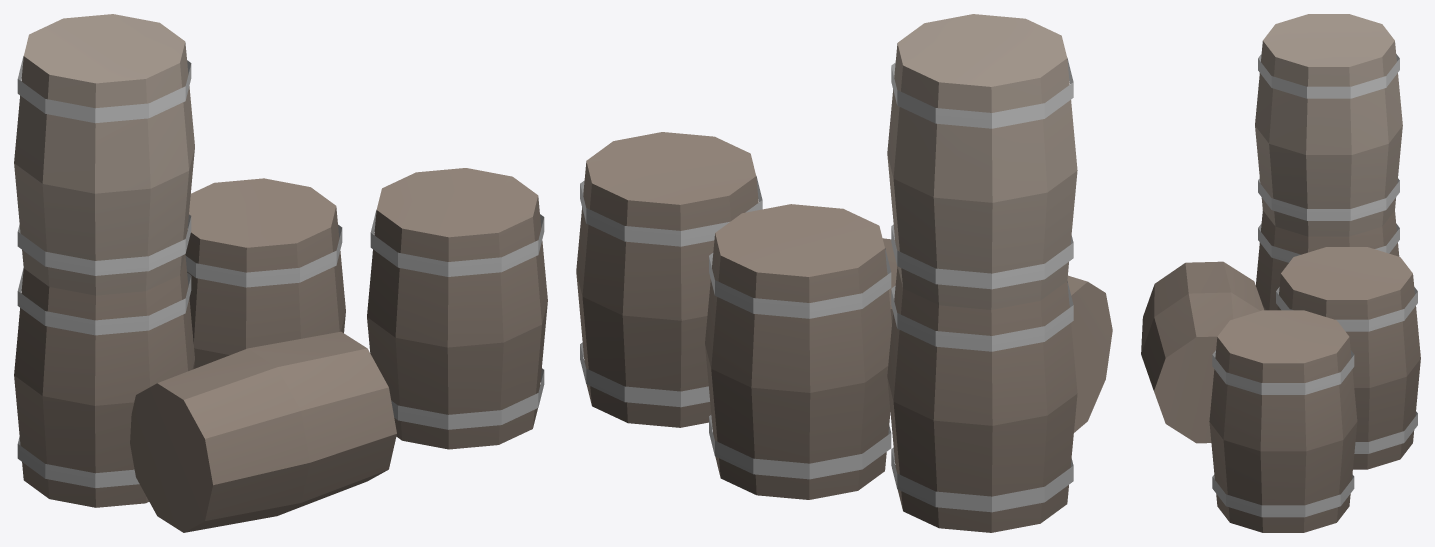
Rendered from barrels_0.glb.
3 views of the same model, side by side, from view 1: azimuth 30°, elevation 25°; view 2: azimuth 150°, elevation 25°; view 3: azimuth 270°, elevation 25° (orthographic). The views are drawn at different scales.
Parts seen in each view (by area): view 1: barrels_0; view 2: barrels_0; view 3: barrels_0.
Boxes of the visible parts, x1,y1,x2,y2 form: barrels_0: (14,14,547,532); barrels_0: (576,14,1112,532); barrels_0: (1141,14,1420,532).
Bounding box in the file's own units: 2 × 1.7 × 1.27.
